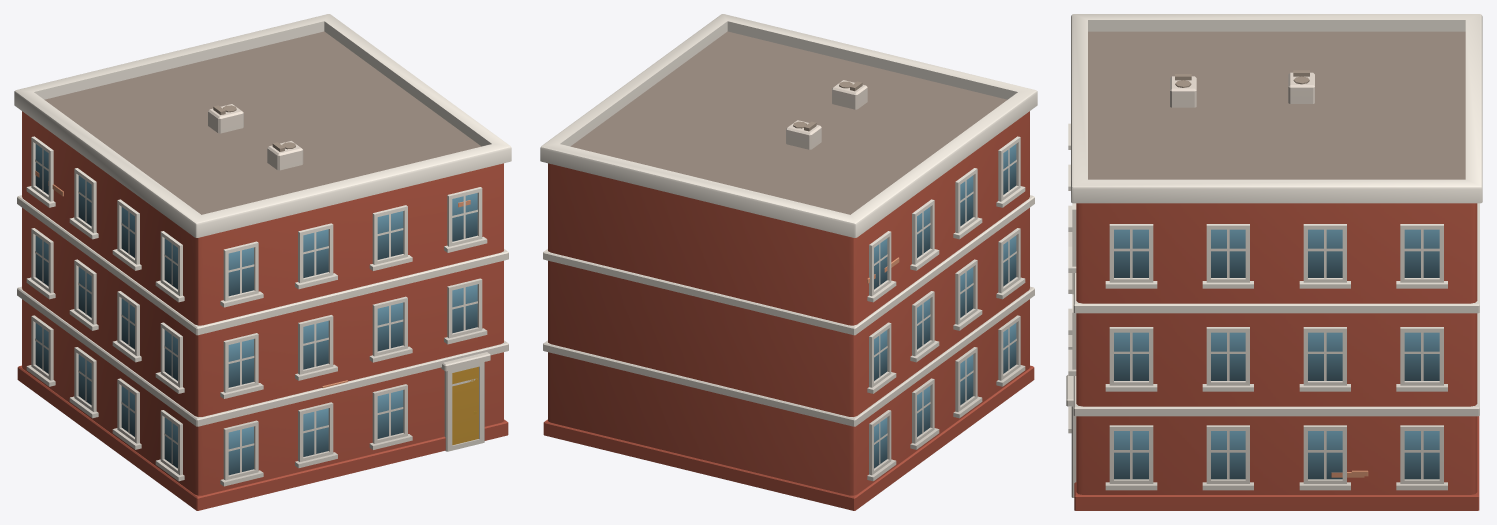
Rendered from tremont_n4.glb.
3 renders of one model, left to right at view 1: azimuth 30°, elevation 25°; view 2: azimuth 150°, elevation 25°; view 3: azimuth 270°, elevation 25°, orthographic. The views are drawn at different scales.
Visible parts, largest first — view 1: tremont_n4; view 2: tremont_n4; view 3: tremont_n4.
Part boxes in pixels (left/top/right/bottom): tremont_n4: left=14, top=14, right=511, bottom=510; tremont_n4: left=540, top=14, right=1037, bottom=510; tremont_n4: left=1066, top=14, right=1482, bottom=510.
Bounding box in the file's own units: 12.48 × 11.11 × 12.46.
Materials: 1 (1 with a texture image).
